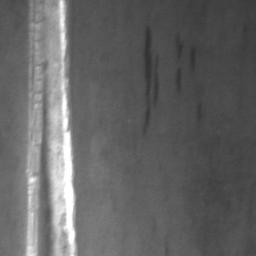Bright scratch: (26, 0, 79, 256)
